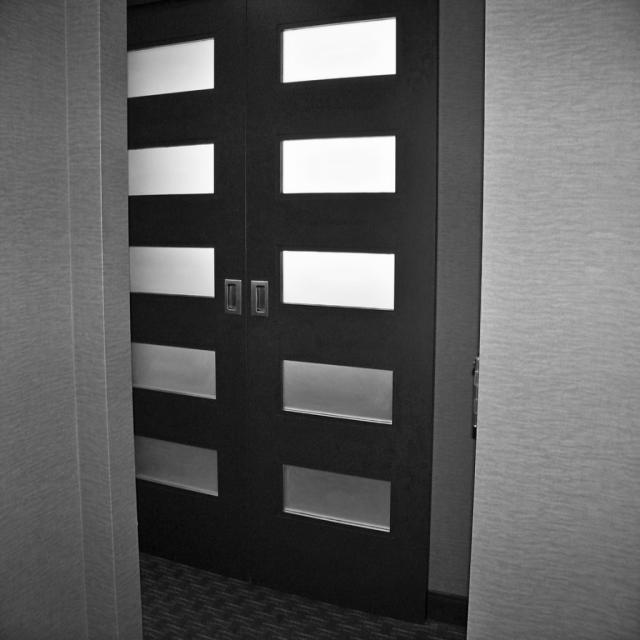doorhandle: (251, 13, 411, 575), (129, 36, 245, 569), (252, 276, 272, 316), (226, 279, 242, 313)
